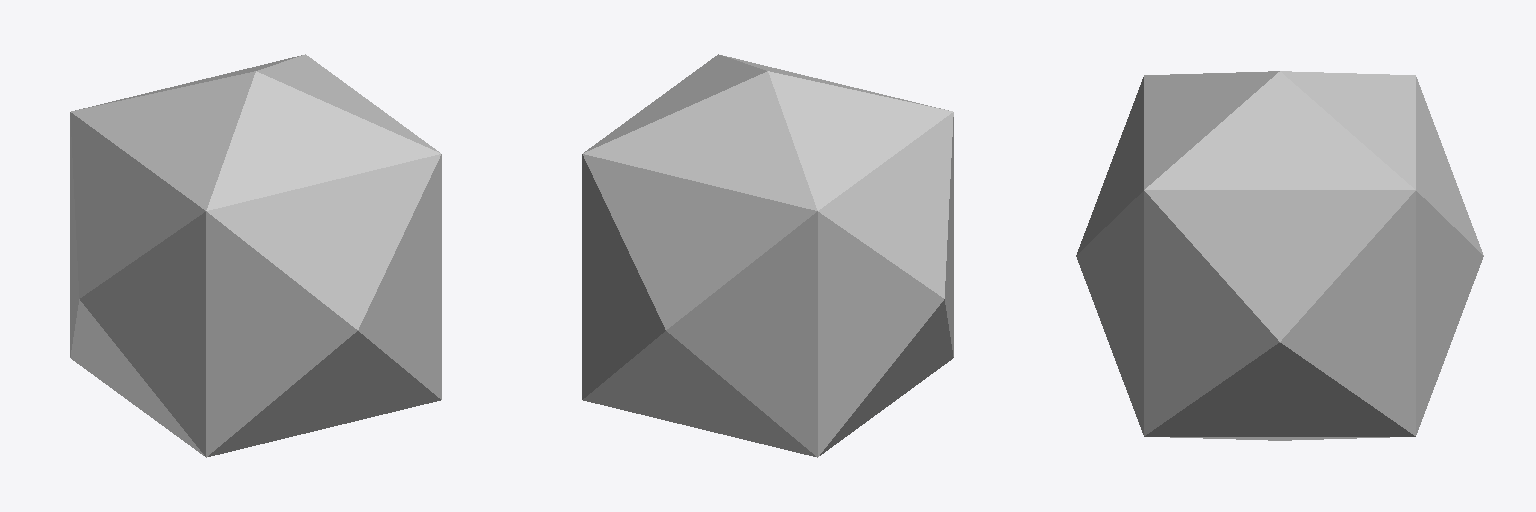
The model's file is BrickWeird02.obj.
3 renders of one model, left to right at view 1: azimuth 30°, elevation 25°; view 2: azimuth 150°, elevation 25°; view 3: azimuth 270°, elevation 25°, orthographic.
Parts seen in each view (by area): view 1: BrickWeird02; view 2: BrickWeird02; view 3: BrickWeird02.
Part boxes in pixels (x1,y1,x2,y2): BrickWeird02: (70, 54, 441, 457); BrickWeird02: (582, 54, 953, 457); BrickWeird02: (1076, 71, 1483, 440).
Bounding box in the file's own units: 0.75 × 0.75 × 0.75.